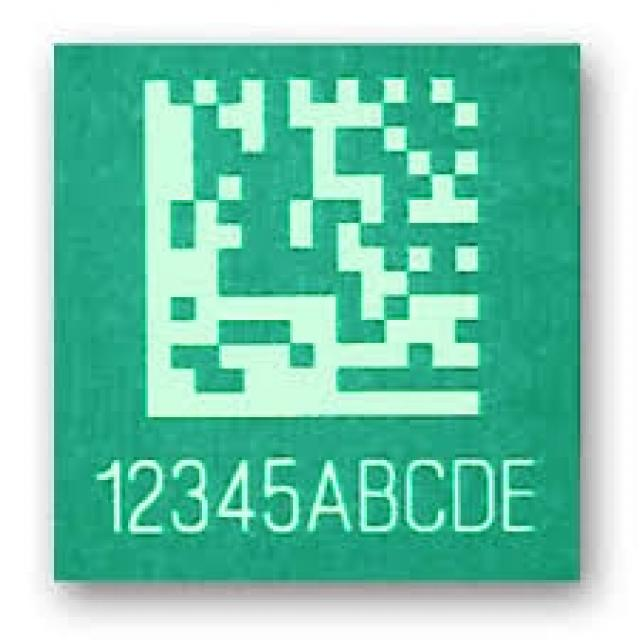datamatrix: (132, 70, 499, 430)
